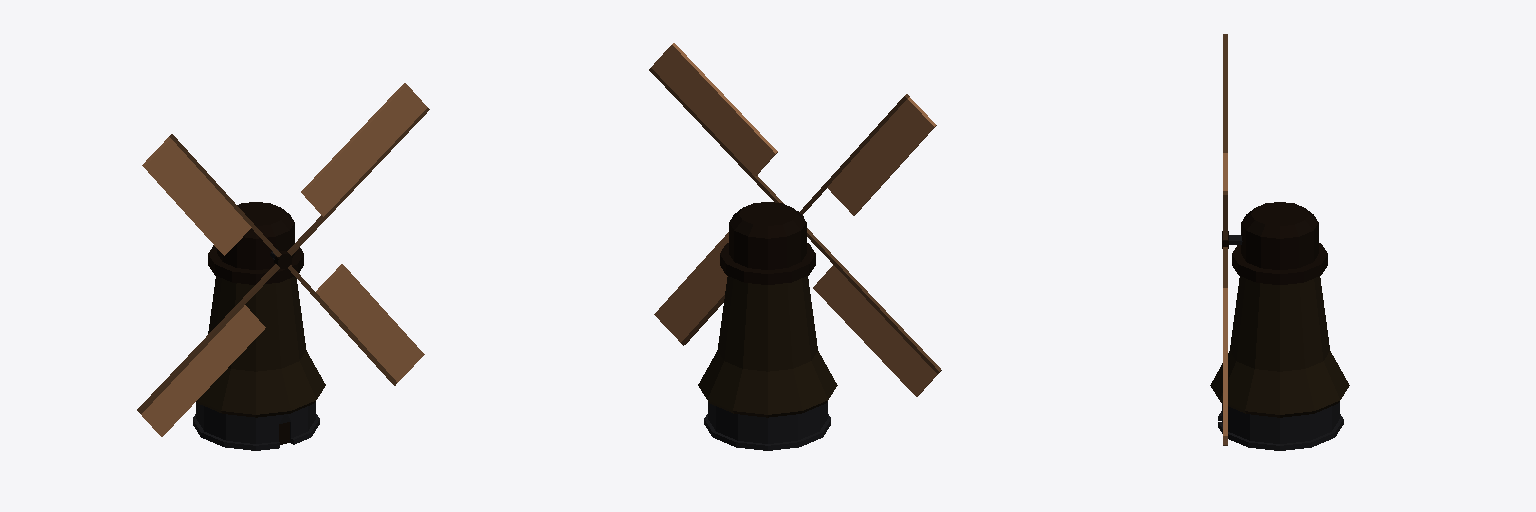
Rendered from SM_WindMill_02.obj.
The picture shows the model from 3 angles: view 1: azimuth 30°, elevation 25°; view 2: azimuth 150°, elevation 25°; view 3: azimuth 270°, elevation 25°; orthographic projection.
Visible parts, largest first — view 1: SM_WindMill:SM_WindMill1; view 2: SM_WindMill:SM_WindMill1; view 3: SM_WindMill:SM_WindMill1.
Boxes of the visible parts, x1,y1,x2,y2 form: SM_WindMill:SM_WindMill1: [137, 83, 429, 450]; SM_WindMill:SM_WindMill1: [649, 43, 941, 450]; SM_WindMill:SM_WindMill1: [1210, 34, 1349, 450].
Size of the model in its own units: 26.34 by 29.11 by 10.96.